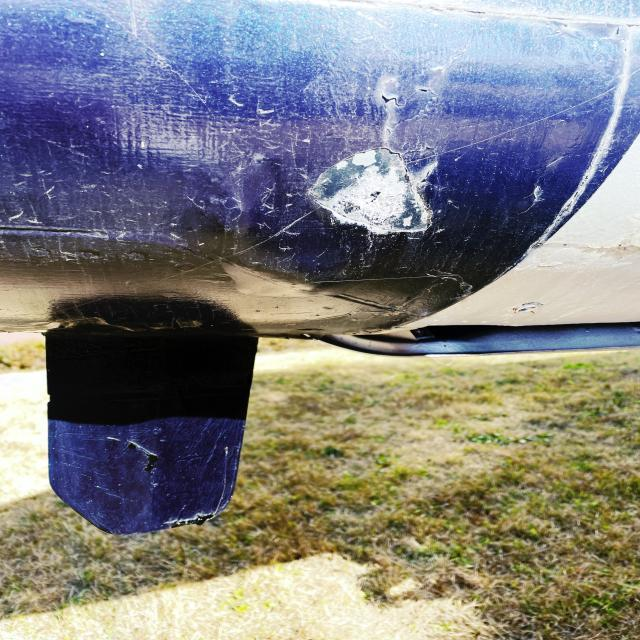crack: (377, 83, 439, 106)
dent: (304, 144, 446, 241)
